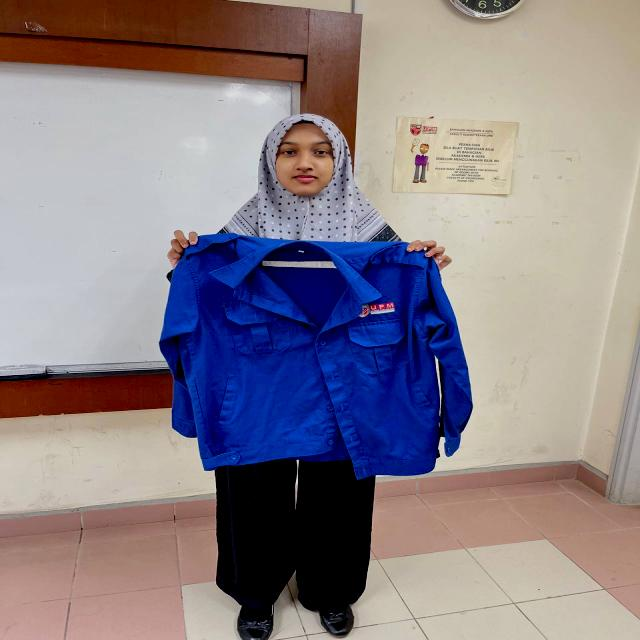person_without_labcoat: (161, 114, 472, 640)
